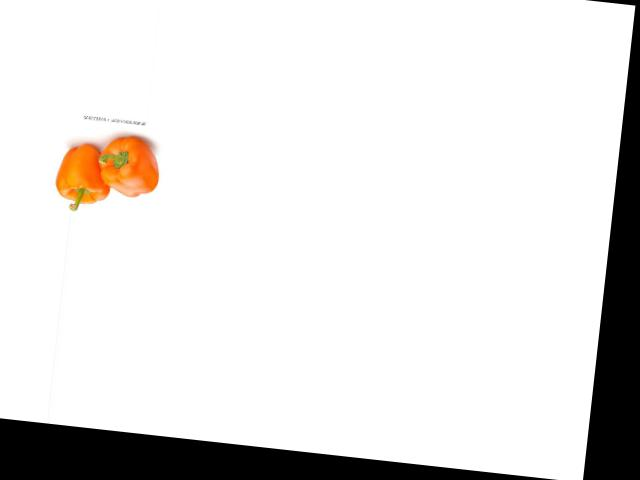bell_pepper: (92, 127, 165, 202)
